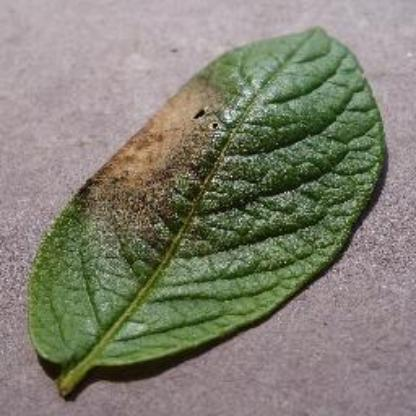Late-Blight: (13, 19, 402, 404)
